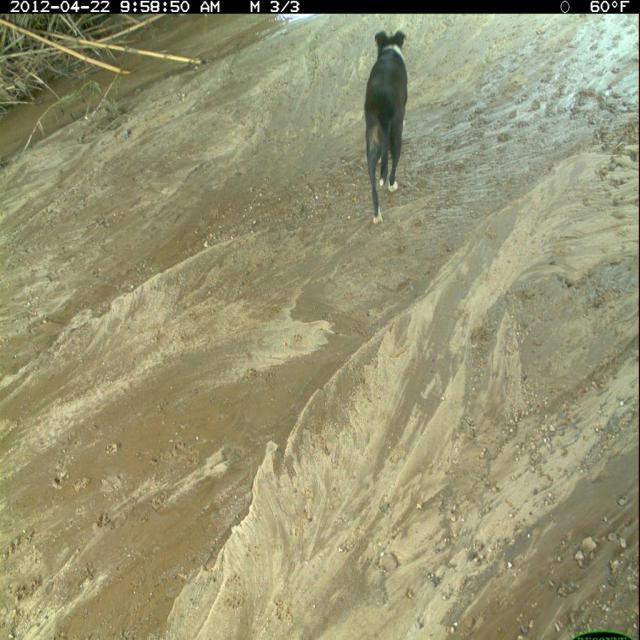dog: (363, 24, 412, 231)
